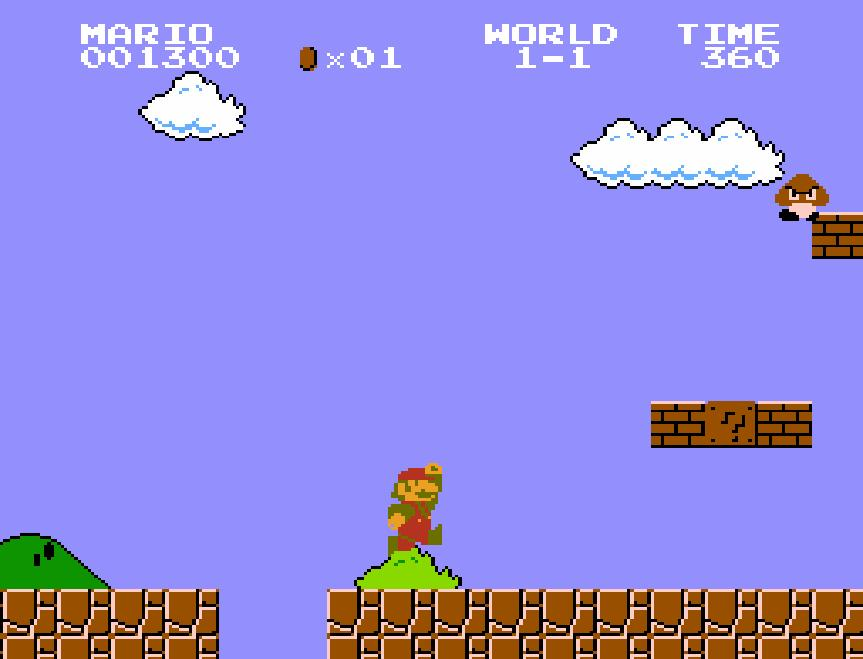big_mario: (386, 461, 444, 559)
